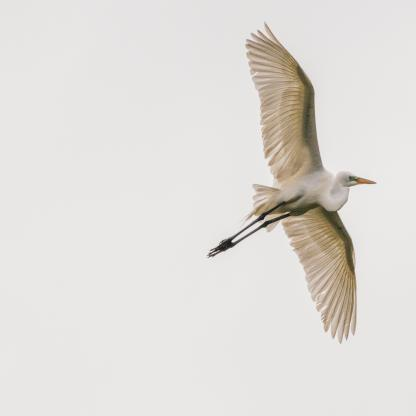bird: (208, 21, 378, 344)
